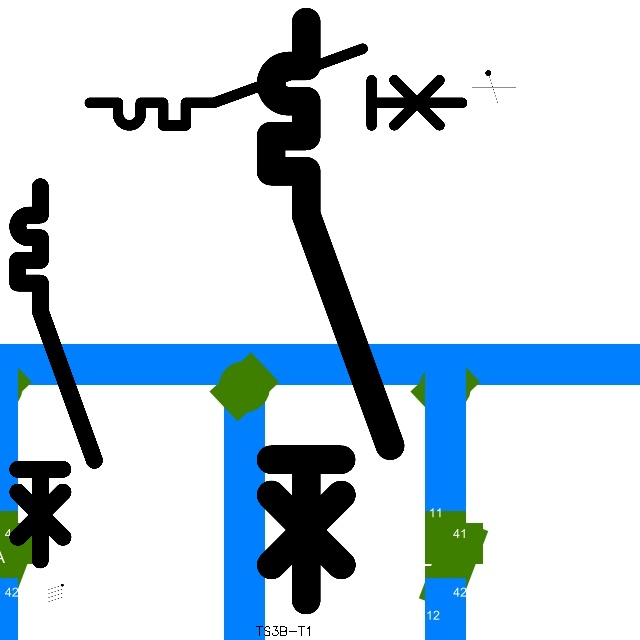interruptor_termomagnetico: (256, 7, 405, 615), (80, 39, 472, 135), (8, 177, 104, 569)
